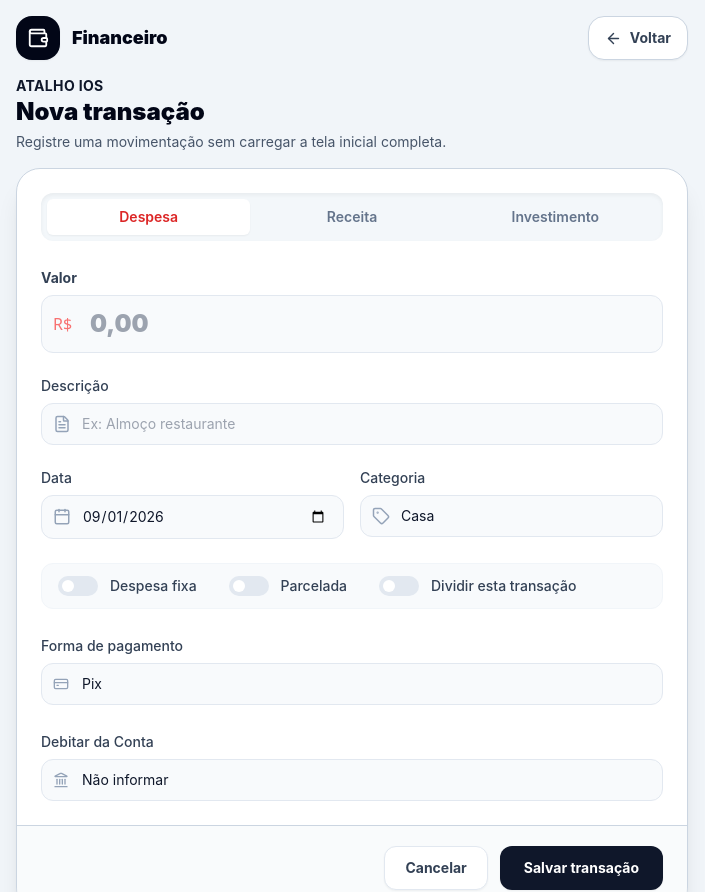
Test: QuickTransactionPage › salva e oferece ações rápidas de continuação
Click the button "Receita" at (352, 217), box [250,199,454,235]
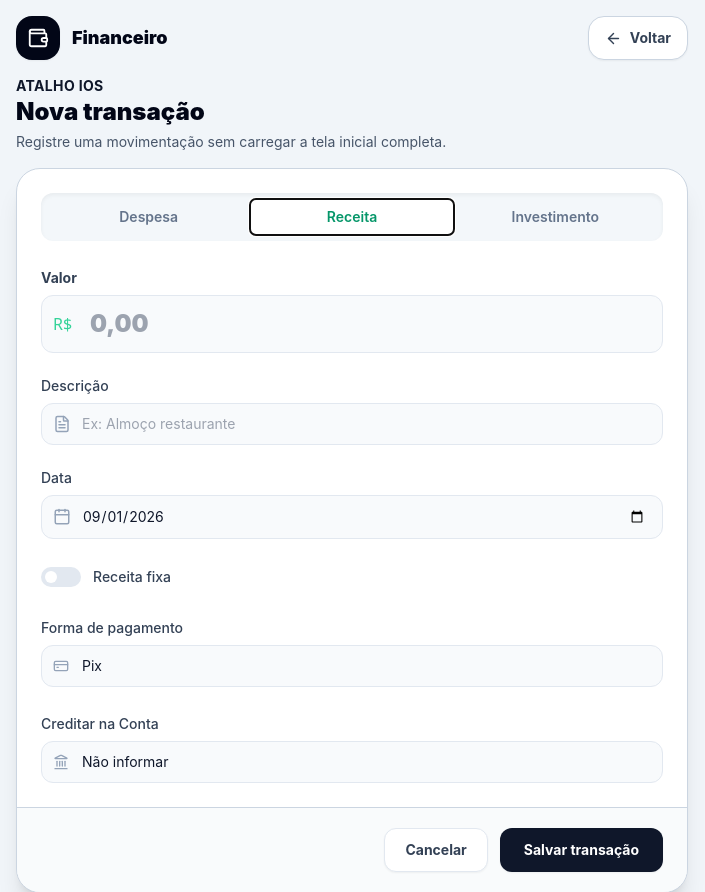
Type "5000" into the field with placeholder "0,00" at (352, 324), box [41,295,663,353]
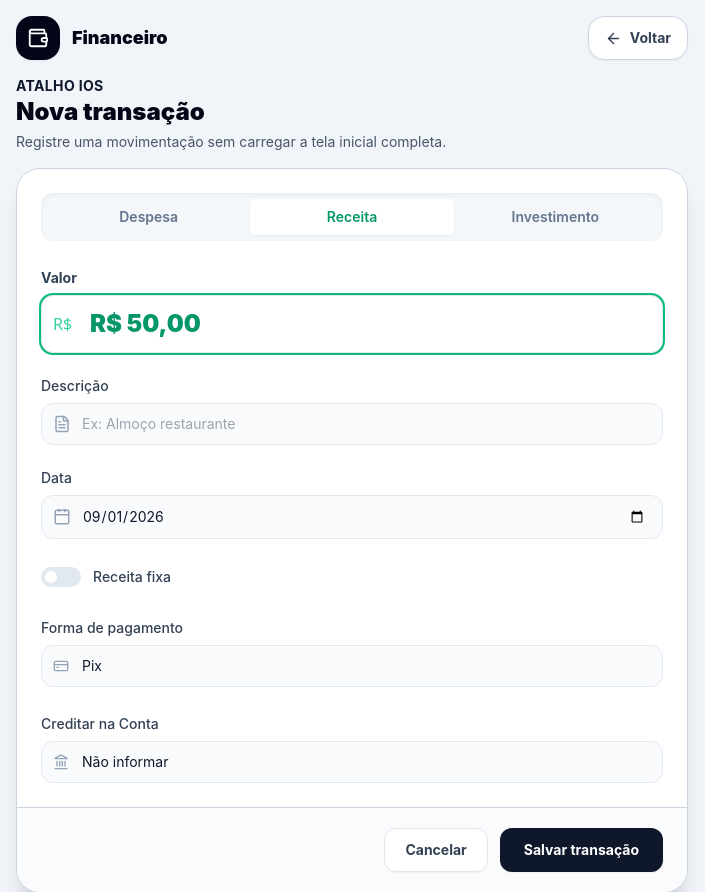
Type "Freela" into the field labelled "Descrição" at (352, 424), box [41,403,663,445]
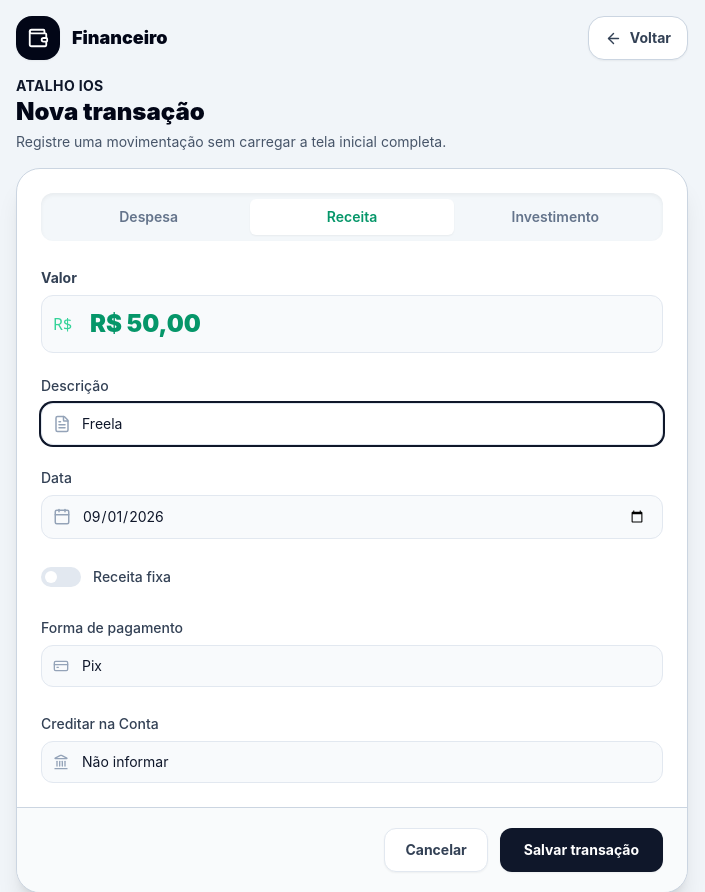
Click the button "Salvar transação" at (581, 850), box [500,828,663,872]
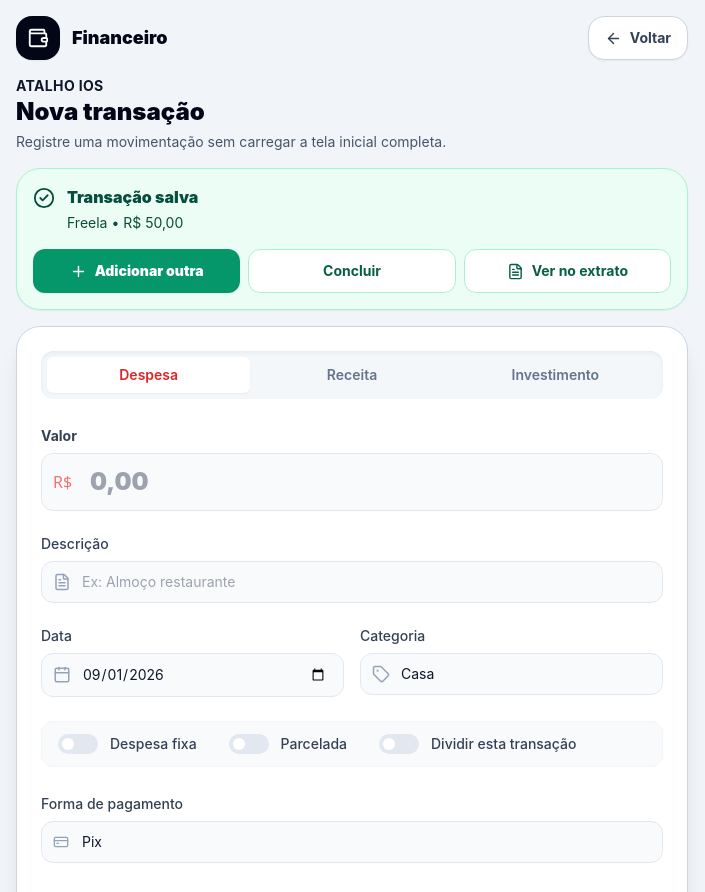
Expected: the heading "Transação salva" is shown, [67,185,198,209]
Expected: the button "Adicionar outra" is shown, [33,249,240,293]
Expected: the button "Concluir" is shown, [248,249,456,293]
